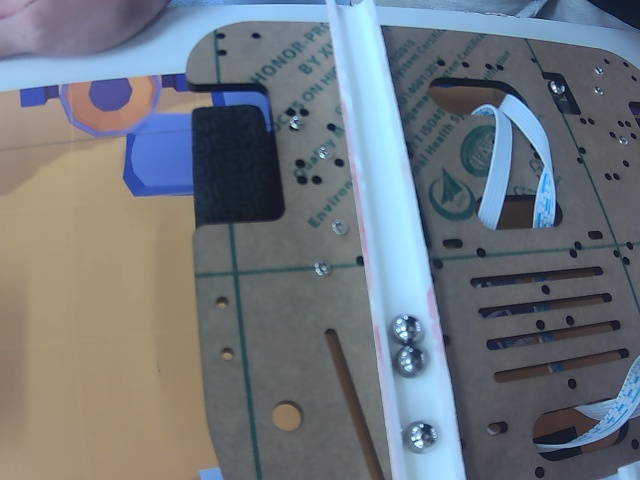steelball: (403, 420, 435, 454), (389, 313, 421, 345), (394, 346, 426, 377)
